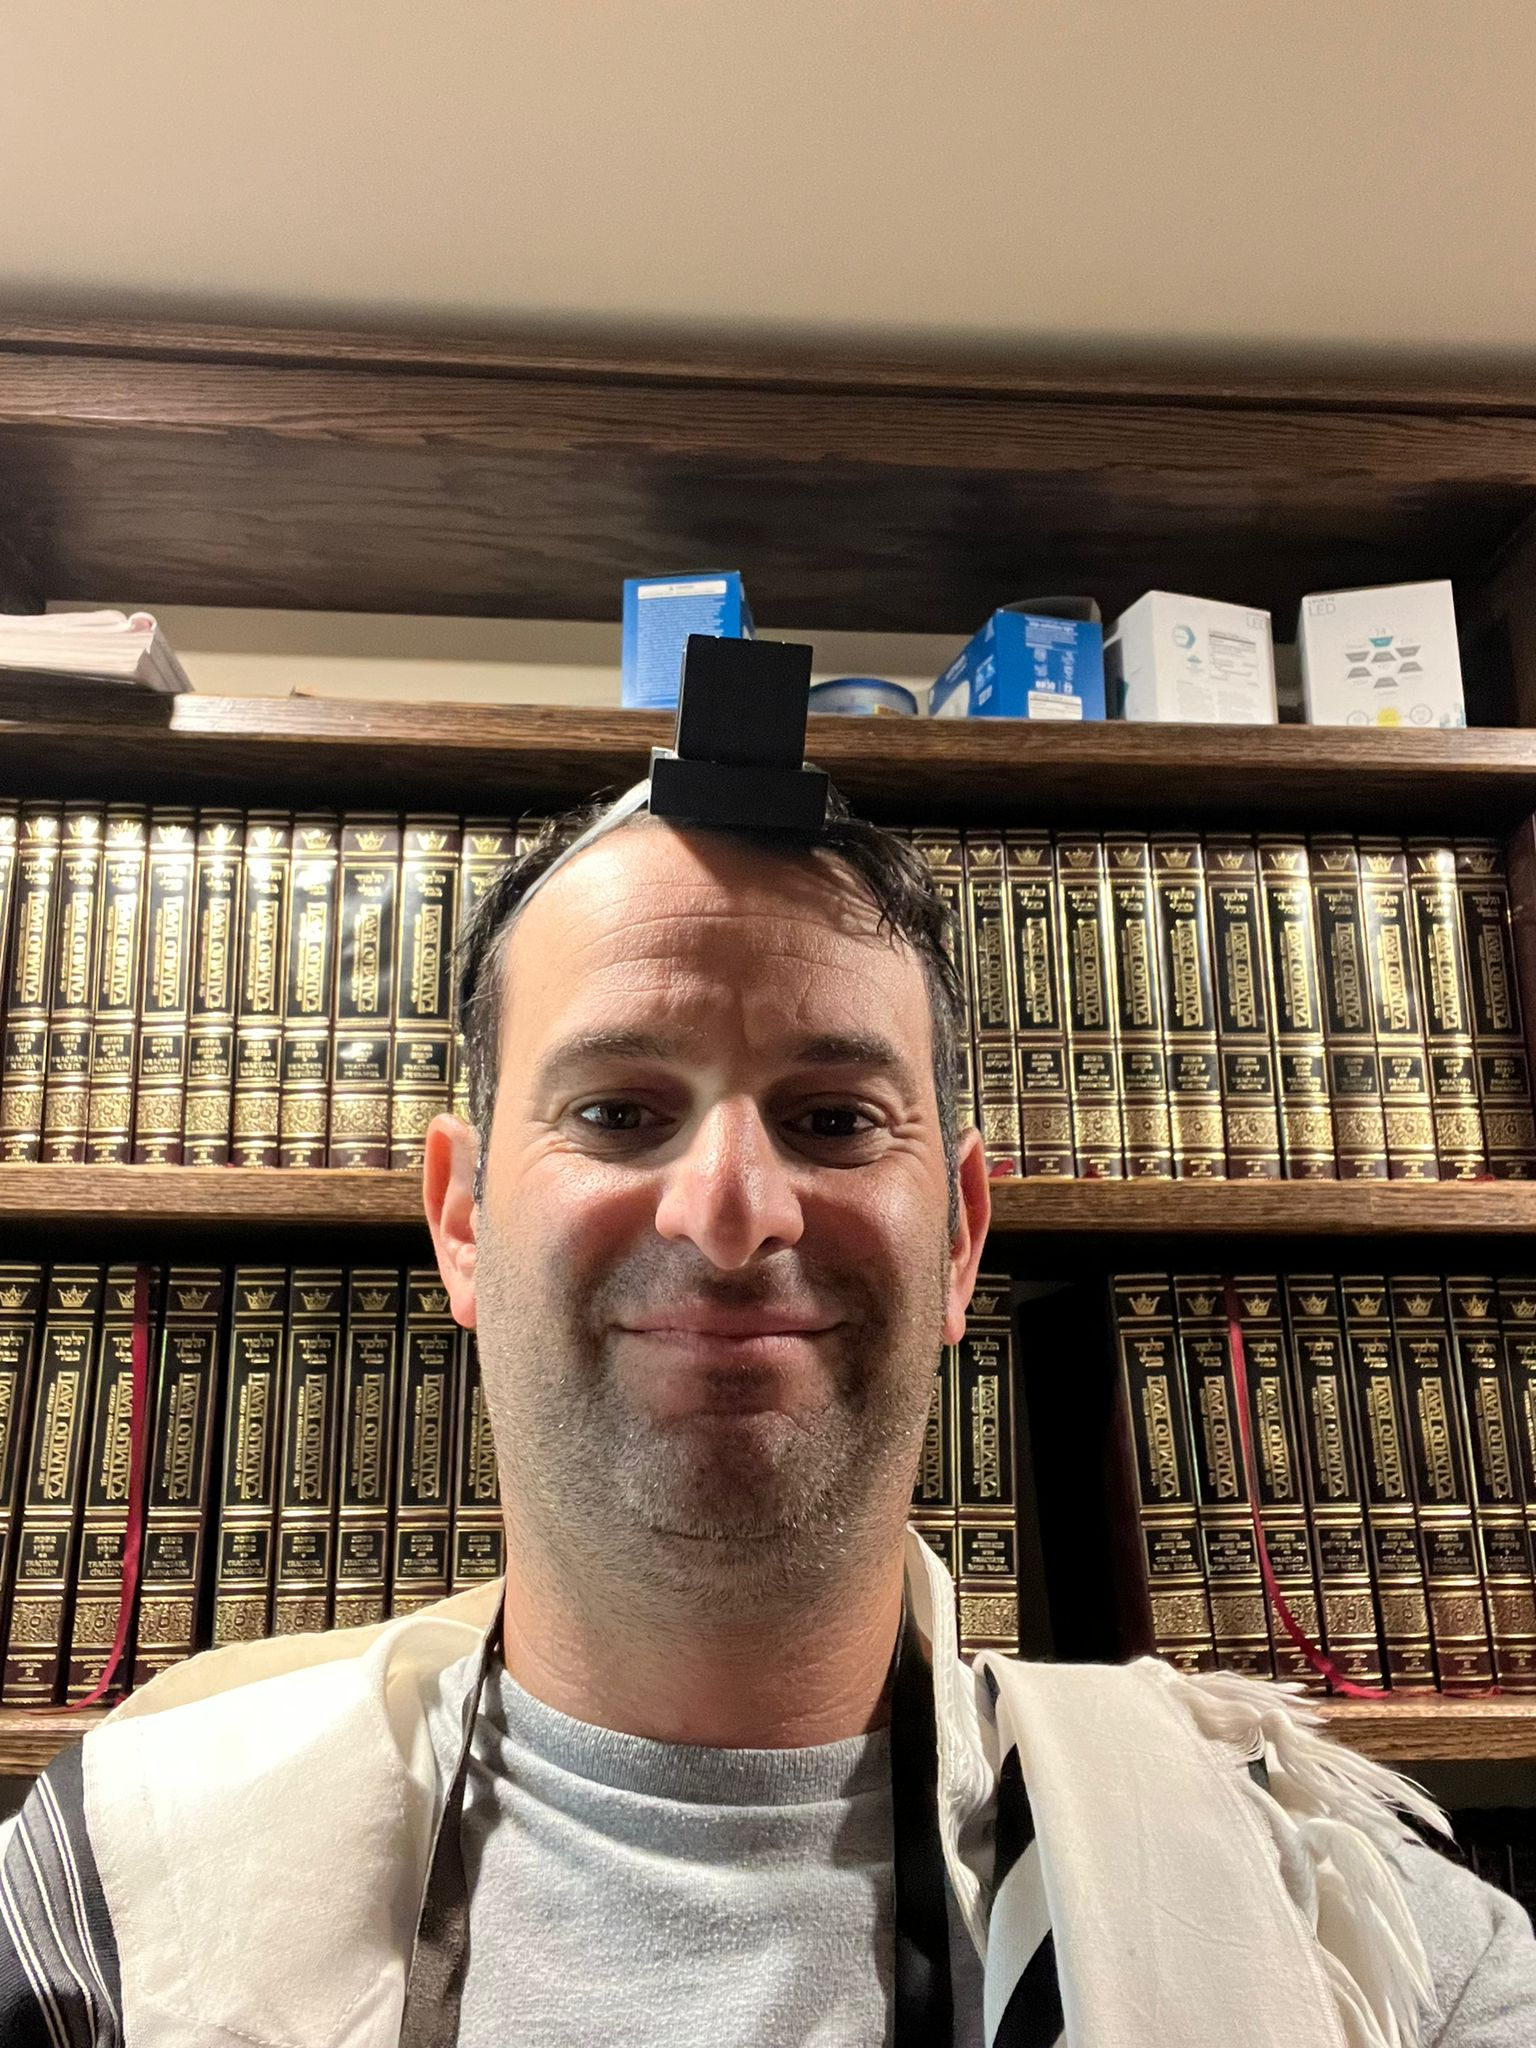tefillin: (647, 632, 831, 837)
